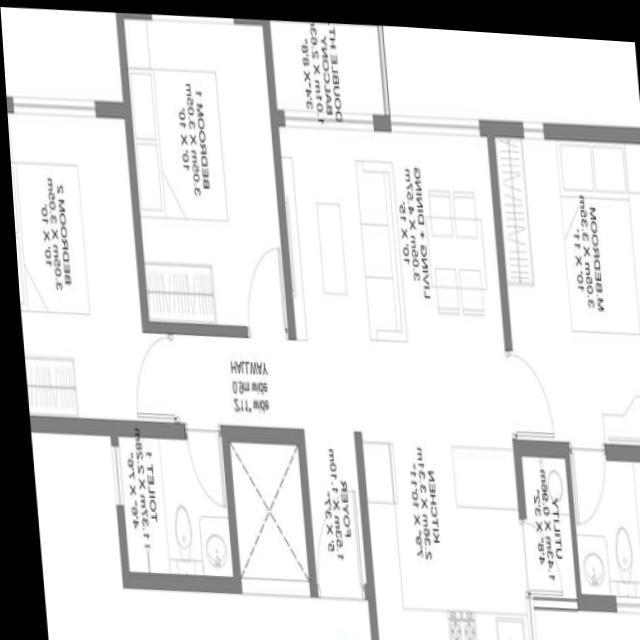Balcony-Sitout: (271, 15, 386, 113)
Bedroom: (118, 10, 290, 336), (5, 95, 144, 434)
Bedroom with Toilet: (489, 121, 640, 596)
Dining: (406, 166, 492, 325)
Enterance-Foyer: (297, 426, 360, 593)
Kitchen: (349, 425, 525, 640)
Living: (275, 104, 403, 346)
Toilet: (106, 434, 232, 589), (564, 436, 640, 603)
Utility: (516, 448, 568, 597)
